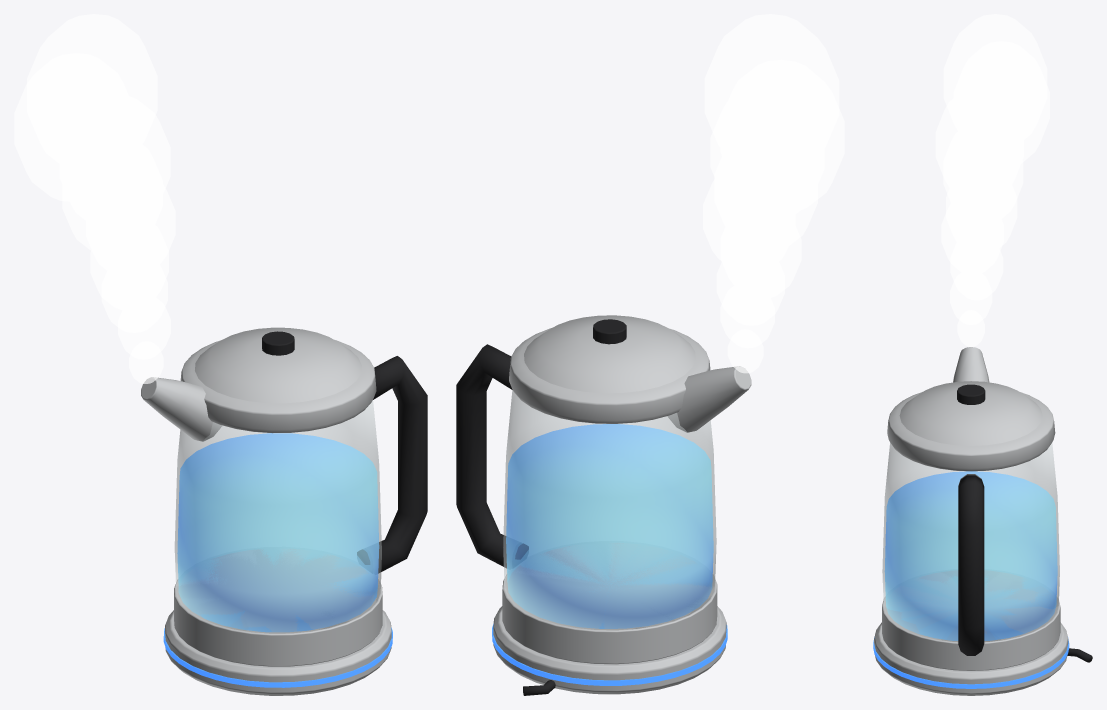
Rendered from kettle.glb.
3 views of the same model, side by side, from view 1: azimuth 30°, elevation 25°; view 2: azimuth 150°, elevation 25°; view 3: azimuth 270°, elevation 25° (orthographic). The views are drawn at different scales.
Visible parts, largest first — view 1: kettle_base, kettle_body, kettle_water, kettle_steam, kettle_handle, kettle_glow_ring; view 2: kettle_base, kettle_body, kettle_water, kettle_steam, kettle_handle, kettle_glow_ring; view 3: kettle_body, kettle_base, kettle_steam, kettle_water, kettle_handle, kettle_glow_ring.
Part boxes in pixels (x1,y1,x2,y2): kettle_base: (141, 327, 391, 695); kettle_body: (174, 400, 381, 633); kettle_water: (177, 433, 379, 632); kettle_steam: (14, 14, 175, 383); kettle_handle: (357, 356, 427, 573); kettle_glow_ring: (163, 627, 392, 687); kettle_base: (493, 315, 751, 694); kettle_body: (503, 390, 716, 629); kettle_water: (506, 424, 713, 628); kettle_steam: (703, 14, 844, 373); kettle_handle: (456, 344, 528, 568); kettle_glow_ring: (492, 624, 727, 685); kettle_body: (882, 443, 1059, 642); kettle_base: (874, 347, 1068, 695); kettle_steam: (935, 14, 1049, 346); kettle_water: (884, 471, 1057, 640); kettle_handle: (958, 474, 984, 655); kettle_glow_ring: (873, 637, 1069, 688).
Size of the model in its own units: 0.3217 by 0.5288 by 0.1855.
